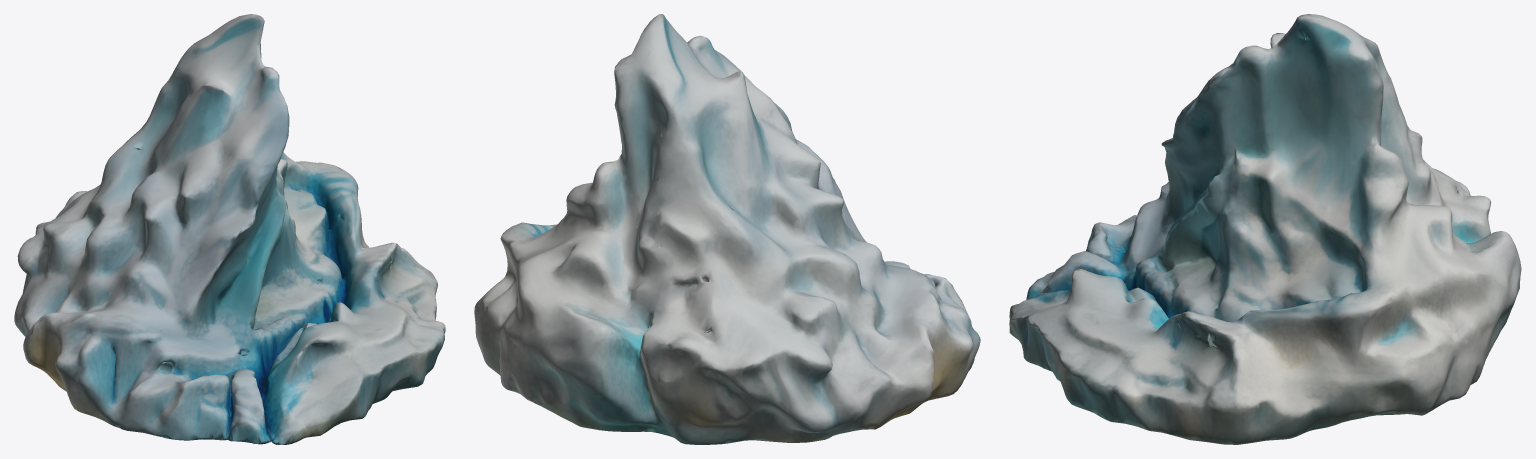
3 renders of one model, left to right at view 1: azimuth 30°, elevation 25°; view 2: azimuth 150°, elevation 25°; view 3: azimuth 270°, elevation 25°, orthographic. The views are drawn at different scales.
Parts seen in each view (by area): view 1: geometry_0; view 2: geometry_0; view 3: geometry_0.
Part boxes in pixels (x1=…): geometry_0: x1=14, y1=14, x2=445, y2=444; geometry_0: x1=474, y1=14, x2=980, y2=444; geometry_0: x1=1009, y1=14, x2=1521, y2=444.
Size of the model in its own units: 29.86 by 23.11 by 30.
1 material, 1 textured.
